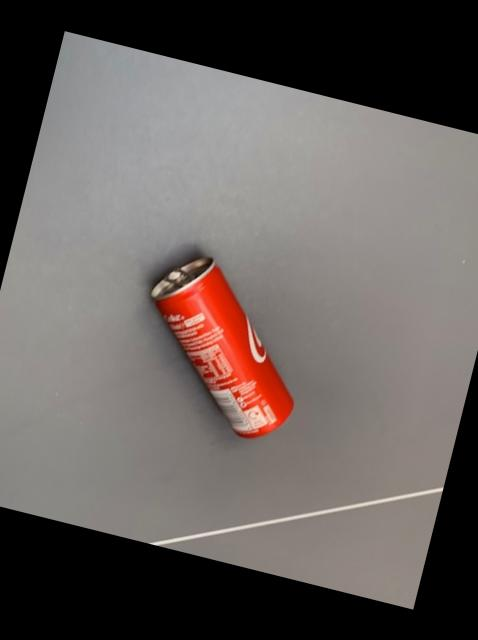metal: (154, 257, 295, 437)
